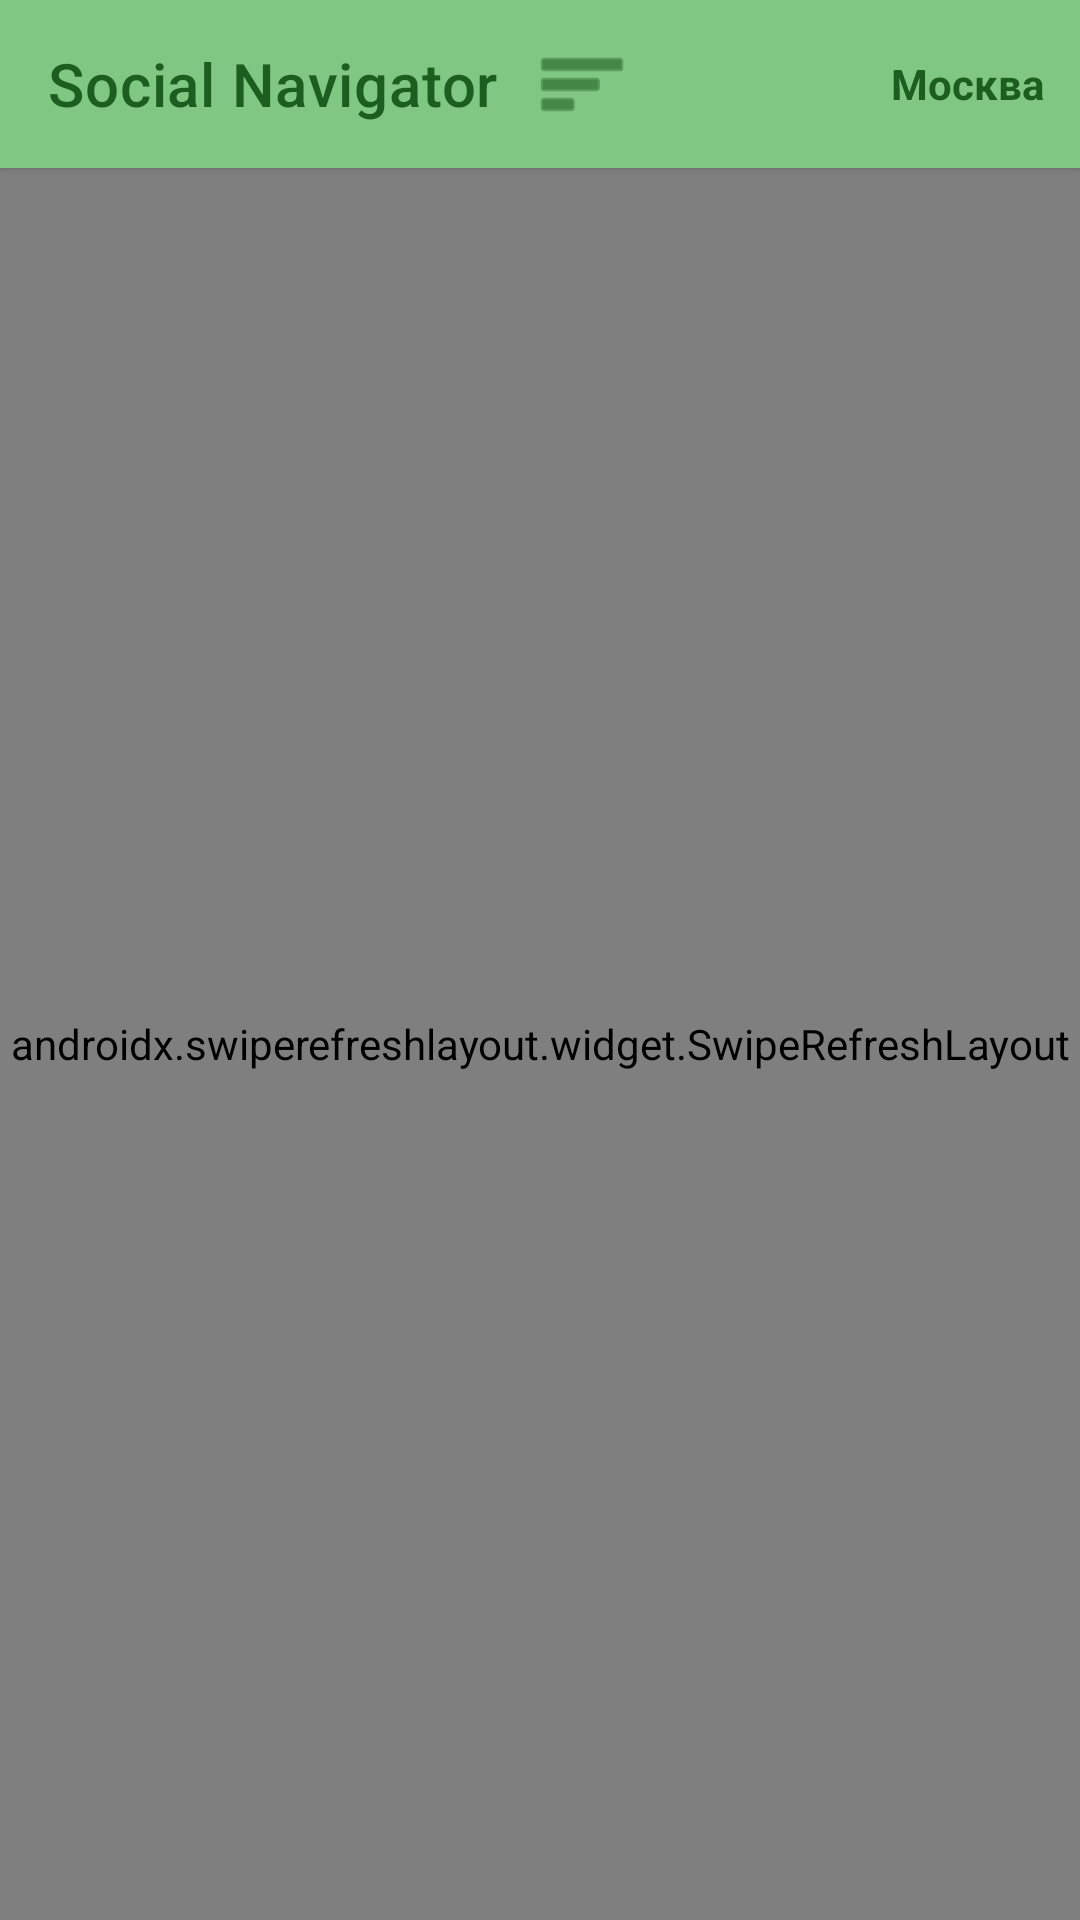

Icons on this 1080 × 1920 Android screen, each with the point to tap as (x=x, y=y):
Фильтр: (x=582, y=84)
